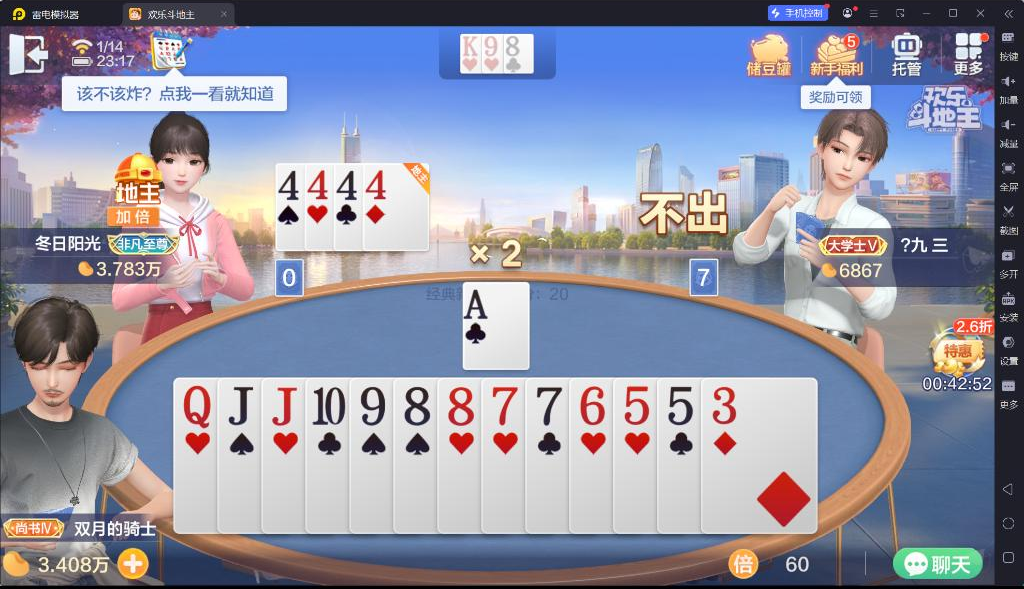A: (464, 289, 489, 322)
J: (223, 381, 257, 427), (268, 382, 300, 428)
K: (462, 35, 480, 57)
Q: (180, 383, 212, 431)
eight: (399, 385, 433, 427), (445, 384, 476, 428), (505, 35, 521, 58)
five: (620, 382, 653, 428), (664, 383, 696, 427)
four: (334, 169, 360, 203), (364, 168, 390, 202), (277, 168, 301, 203), (307, 167, 330, 203)
nine: (355, 384, 388, 428), (483, 35, 498, 56)
seven: (487, 382, 522, 428), (534, 383, 564, 427)
six: (578, 385, 606, 428)
ten: (309, 384, 347, 428)
three: (709, 384, 738, 426)
